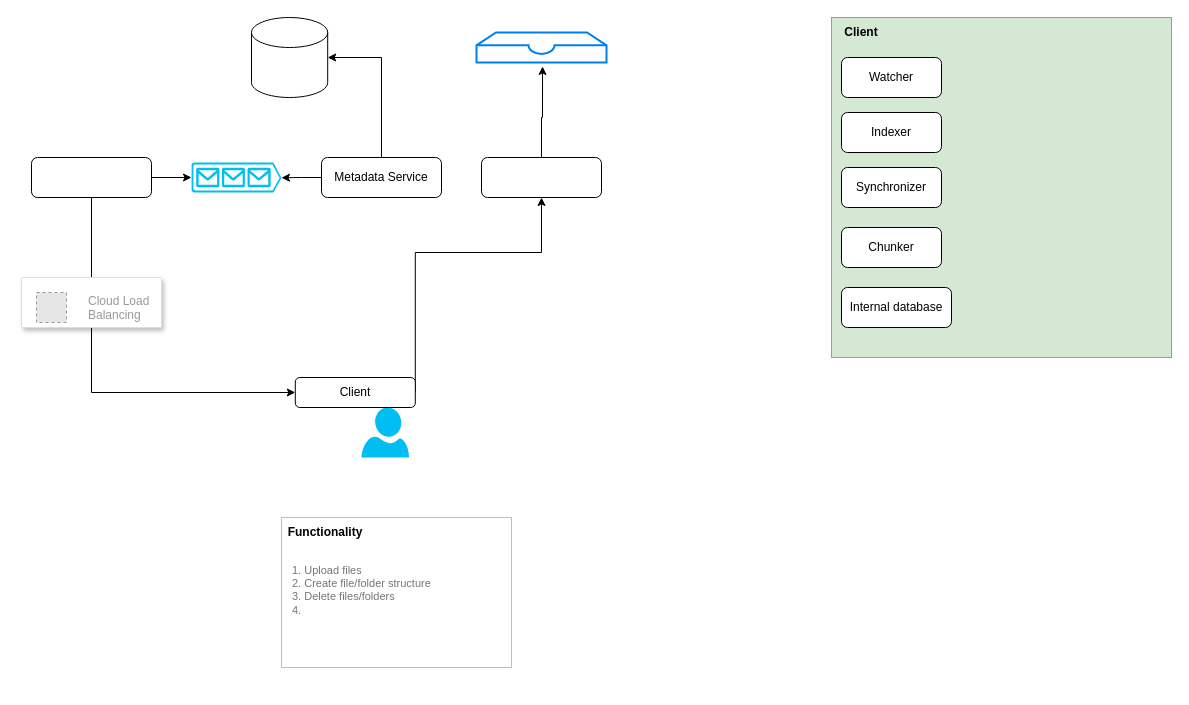
Some shapes in this 1189 by 705 pixel diagram are drawn without their labels. Grey dashed boxes stand in for pictures. The shapes that lost their labels are listed below. From the top down, each one's centre as x and y in pixels, then its label:
At (x=289, y=57): "Metadata".
At (x=91, y=177): "Notification Service".
At (x=541, y=177): "File Service".
